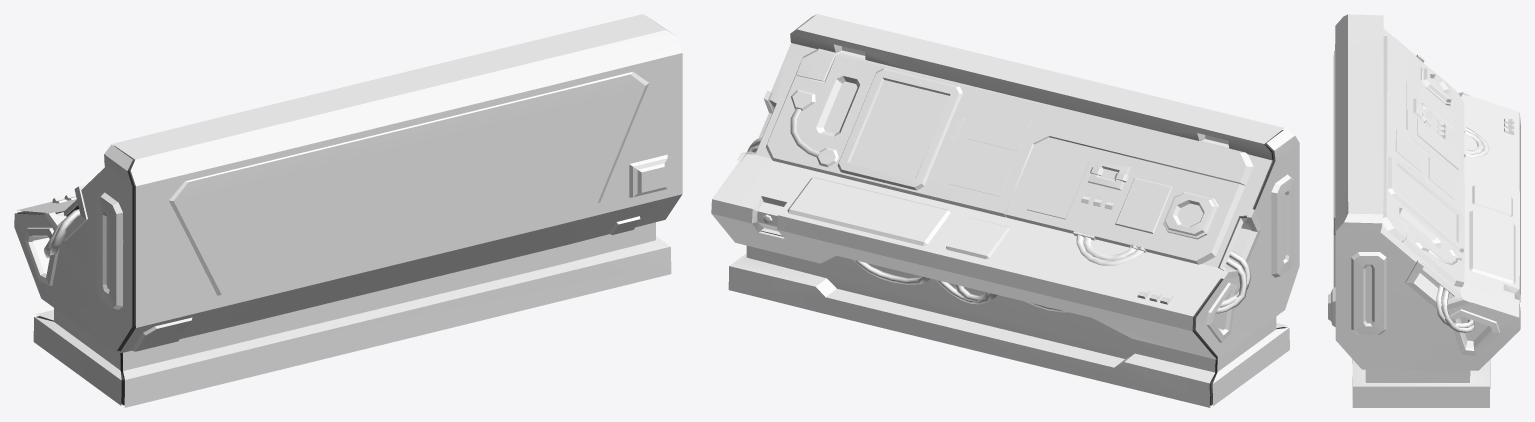
File: Console.glb
3 views of the same model, side by side, from view 1: azimuth 30°, elevation 25°; view 2: azimuth 150°, elevation 25°; view 3: azimuth 270°, elevation 25° (orthographic). The views are drawn at different scales.
Parts seen in each view (by area): view 1: ConsoleArenaHologram, ConsoleArenaModel; view 2: ConsoleArenaHologram, ConsoleArenaModel; view 3: ConsoleArenaHologram.
Part boxes in pixels (x1,y1,x2,y2): ConsoleArenaHologram: (14,14,682,407); ConsoleArenaModel: (17,145,135,405); ConsoleArenaHologram: (711,14,1299,407); ConsoleArenaModel: (760,130,1287,405); ConsoleArenaHologram: (1328,14,1520,407).
Size of the model in its own units: 2.78 by 1.15 by 1.05.
Materials: 2 (1 with a texture image).
